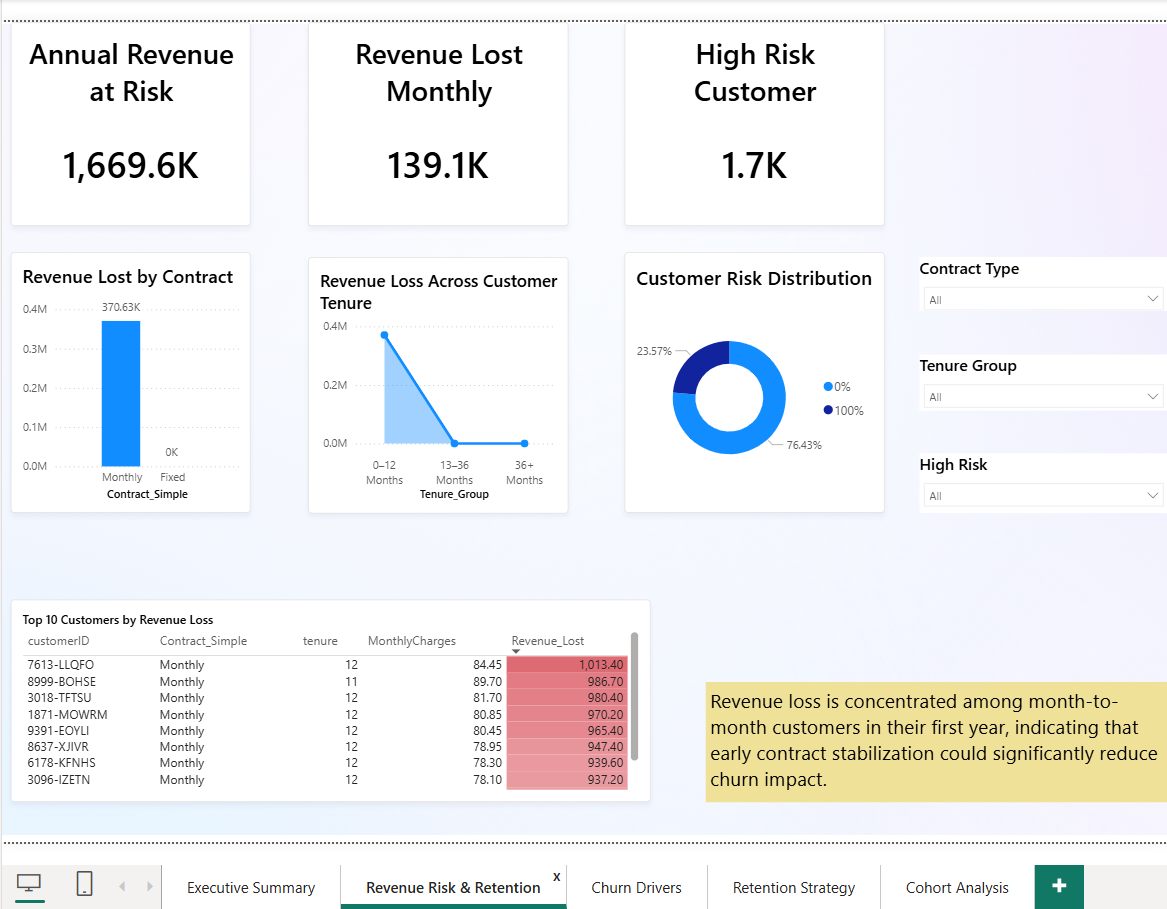

Layout of this report page (visuals, bound fields, positions):
{"tool":"powerbi","page":{"name":"Revenue Risk & Retention","canvas":[1280,900],"ordinal":1},"visuals":[{"type":"card","title":"Annual Revenue at Risk","fields":{"Values":["customers.Annual Revenue at Risk"]},"box":[9.6,0,263.5,223.7],"z":0},{"type":"card","title":"Revenue Lost Monthly","fields":{"Values":["customers.Revenue Lost Monthly"]},"box":[335.5,0,285.4,223.7],"z":1000},{"type":"card","title":"High Risk Customer","fields":{"Values":["customers.High Risk"]},"box":[683.4,0,285.4,223.7],"z":2000},{"type":"lineClusteredColumnComboChart","title":"Revenue Lost by Contract ","fields":{"Category":["customers.Contract_Simple"],"Y":["Sum(customers.Revenue_Lost)"]},"box":[9.6,252.5,263.5,286.8],"z":3000},{"type":"areaChart","title":"Revenue Loss Across Customer Tenure","fields":{"Category":["customers.Tenure_Group"],"Y":["Sum(customers.Revenue_Lost)"]},"box":[336.2,258,285.4,281.3],"z":4000},{"type":"donutChart","title":"Customer Risk Distribution","fields":{"Category":["customers.High_Risk"],"Y":["CountNonNull(customers.customerID)"]},"box":[683.4,252.5,285.4,286.8],"z":5000},{"type":"tableEx","title":"Top 10 Customers by Revenue Loss","fields":{"Values":["customers.customerID","customers.Contract_Simple","customers.tenure","customers.MonthlyCharges","customers.Revenue_Lost"]},"box":[9.6,634,702.6,222.3],"z":6000},{"type":"slicer","title":"Contract Type","fields":{"Values":["customers.Contract_Simple"]},"box":[1007.2,258,273.1,59],"z":7000},{"type":"slicer","title":"Tenure Group","fields":{"Values":["customers.Tenure_Group"]},"box":[1007.2,365,273.1,61.7],"z":8000},{"type":"slicer","title":"High Risk","fields":{"Values":["customers.High_Risk"]},"box":[1007.2,473.4,273.1,65.9],"z":9000},{"type":"textbox","box":[772.6,724.5,507.7,131.7],"z":10000}]}

Visuals, with their boxes on the page's 1280x900 design canvas (x1, y1, x2, y2). These are canvas units, not pixel positions in the 1167x909 screenshot, which may show the page scaled, cropped or inside an application window:
"Annual Revenue at Risk" card: bbox=(10, 0, 273, 224)
"Revenue Lost Monthly" card: bbox=(336, 0, 621, 224)
"High Risk Customer" card: bbox=(683, 0, 969, 224)
"Revenue Lost by Contract " lineClusteredColumnComboChart: bbox=(10, 252, 273, 539)
"Revenue Loss Across Customer Tenure" areaChart: bbox=(336, 258, 622, 539)
"Customer Risk Distribution" donutChart: bbox=(683, 252, 969, 539)
"Top 10 Customers by Revenue Loss" tableEx: bbox=(10, 634, 712, 856)
"Contract Type" slicer: bbox=(1007, 258, 1280, 317)
"Tenure Group" slicer: bbox=(1007, 365, 1280, 427)
"High Risk" slicer: bbox=(1007, 473, 1280, 539)
textbox: bbox=(773, 724, 1280, 856)
